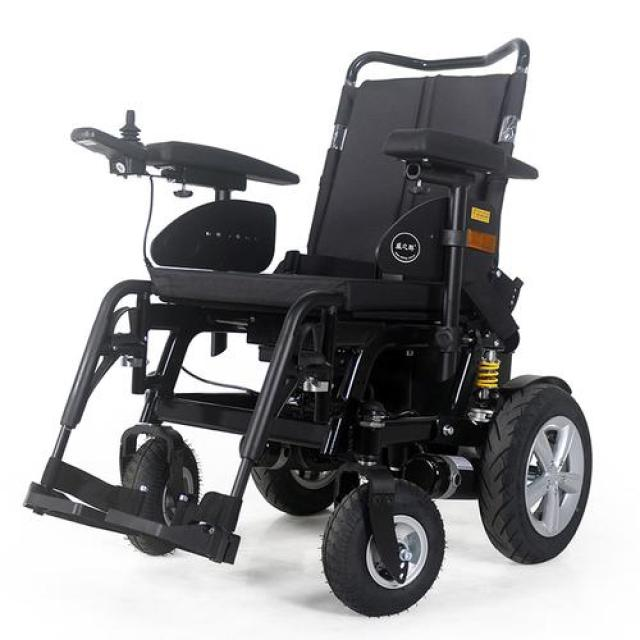wheelchairs: (12, 27, 608, 624)
